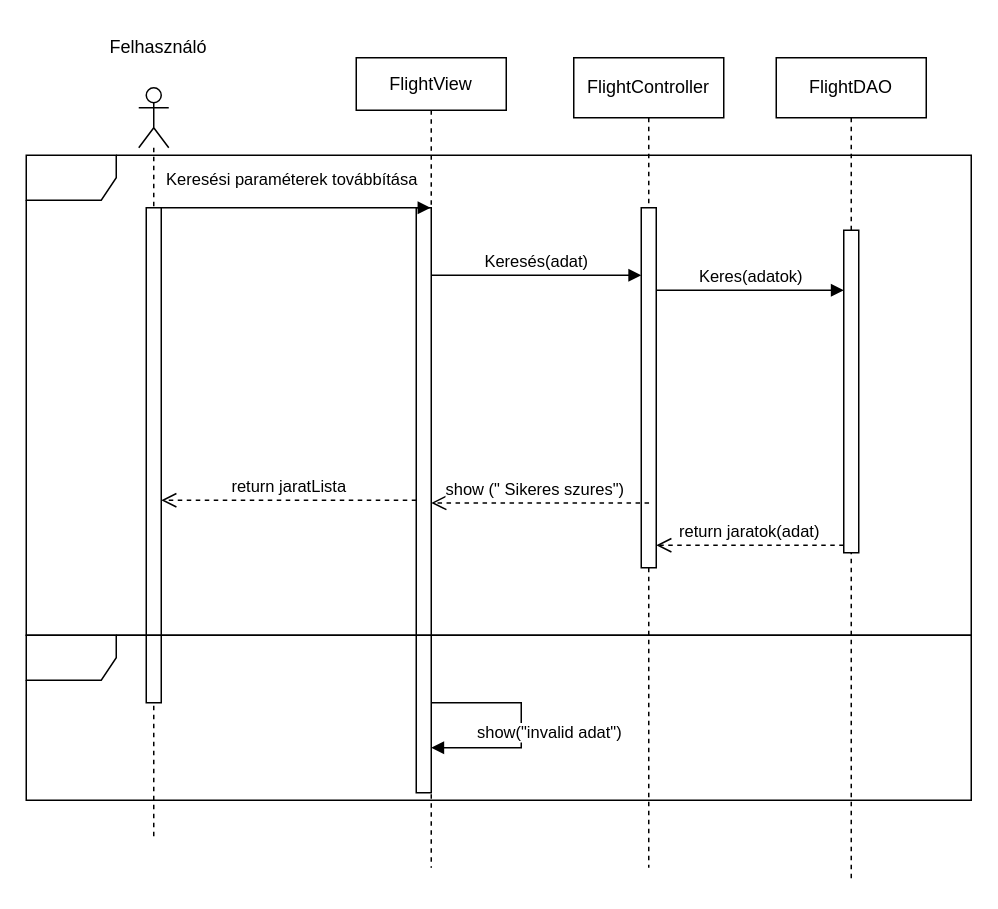
Image size: 998x909. Some labels were removed from this diagram. The centre of each missing label's shape, as x and y in pixels:
"Data is invalid" goes at (498,717).
"Data is valid" goes at (498,394).
